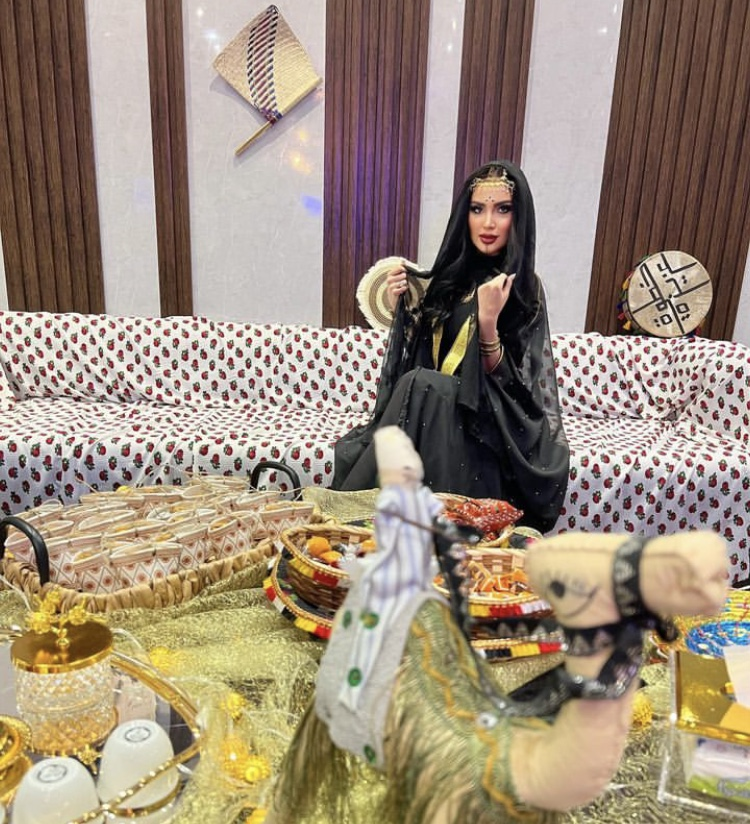Saudi_Founding_Day: (326, 159, 569, 534)
